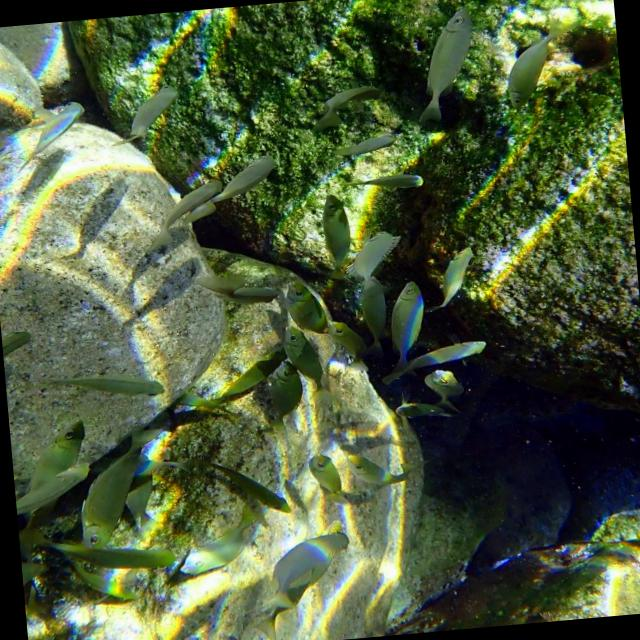Sokar Baligi: (400, 0, 491, 128), (490, 8, 586, 114), (31, 357, 172, 413), (426, 240, 484, 310)
